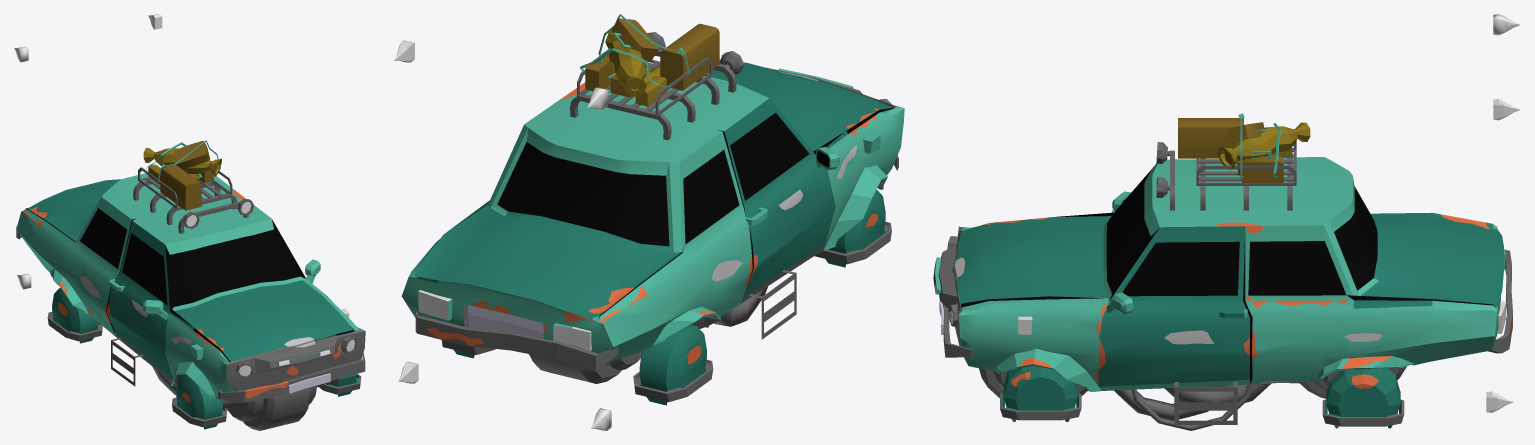
File: zaporozhec.fbx
The picture shows the model from 3 angles, left to right: view 1: azimuth 30°, elevation 25°; view 2: azimuth 150°, elevation 25°; view 3: azimuth 270°, elevation 25°; orthographic projection. The views are drawn at different scales.
Parts seen in each view (by area): view 1: Cube.004, nozzle front_I, nozzle rear_I, nozzle front_II.001; view 2: Cube.004, nozzle rear_I, nozzle front_I, Circle.005; view 3: Cube.004, nozzle rear_II.001, nozzle front_II.001, Circle, Circle.002, Circle.004.
Part boxes in pixels (box(x1,y1,x2,y2)): Cube.004: box(16, 140, 365, 430); nozzle front_I: box(172, 374, 227, 429); nozzle rear_I: box(47, 288, 102, 343); nozzle front_II.001: box(319, 373, 361, 396); Cube.004: box(401, 14, 904, 383); nozzle rear_I: box(633, 324, 713, 405); nozzle front_I: box(814, 189, 891, 267); Circle.005: box(713, 286, 768, 326); Cube.004: box(933, 113, 1512, 424); nozzle rear_II.001: box(1322, 368, 1404, 428); nozzle front_II.001: box(1000, 366, 1081, 421); Circle: box(1164, 383, 1271, 402); Circle.002: box(1114, 386, 1217, 420); Circle.004: box(1131, 384, 1253, 430).
Size of the model in its own units: 1.53 by 2.21 by 3.4.
